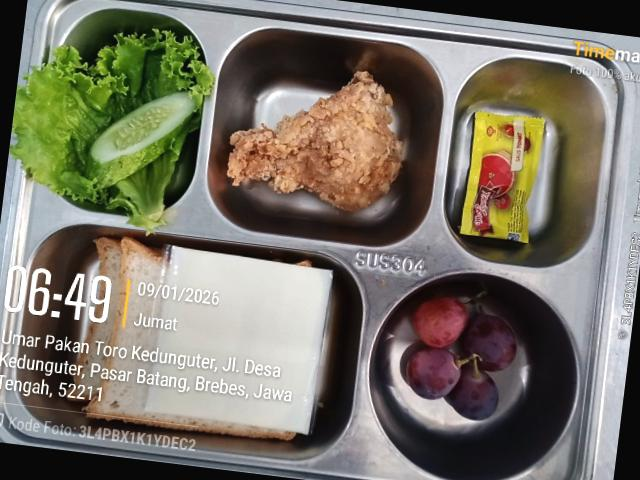ayam: (227, 71, 402, 211)
buah: (407, 296, 517, 420)
keju: (133, 246, 332, 434)
roti: (75, 237, 174, 422)
sayur: (9, 29, 214, 232)
